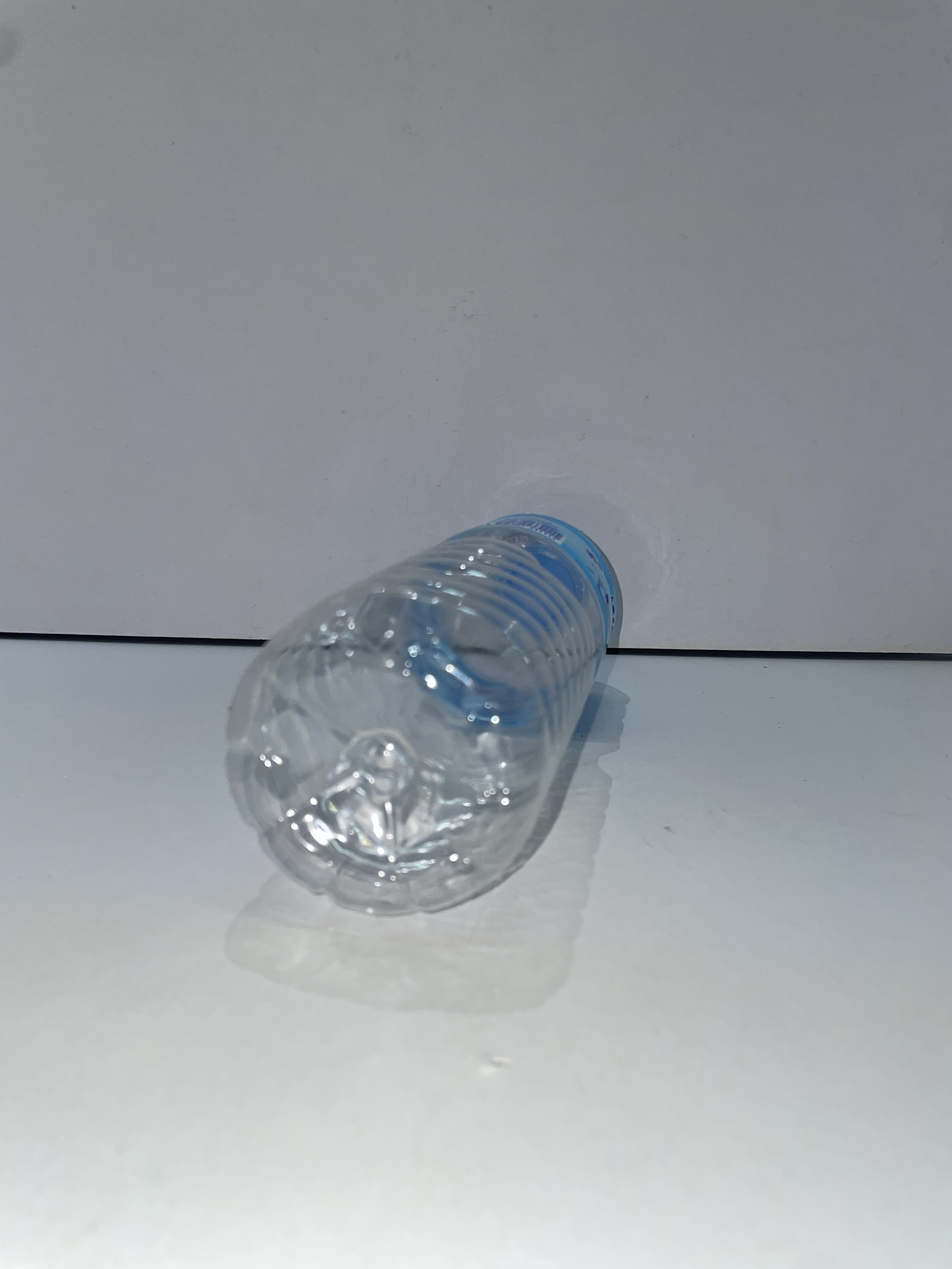Mountain Fresh 500ml: (227, 515, 615, 915)
